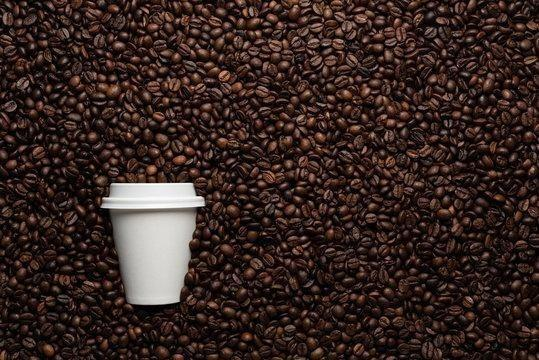cup-disposable: (98, 177, 207, 310)
